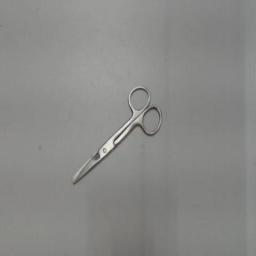Dressing Scissors: (66, 76, 170, 192)
